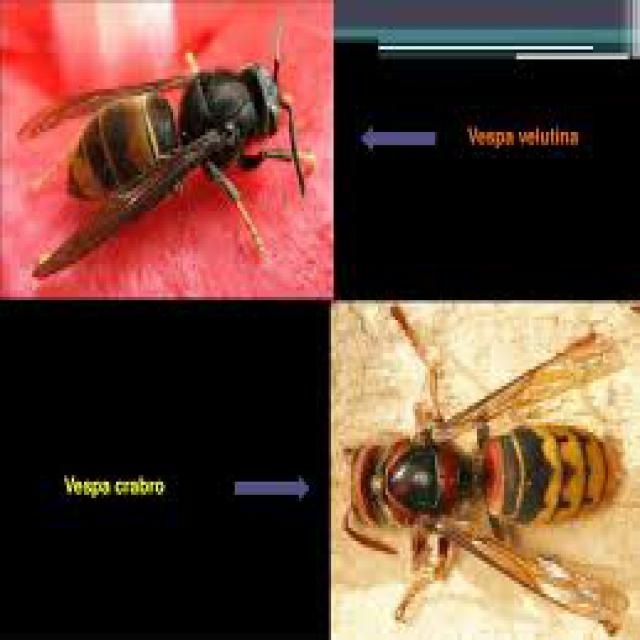Vespa Velutina: (14, 14, 318, 293)
